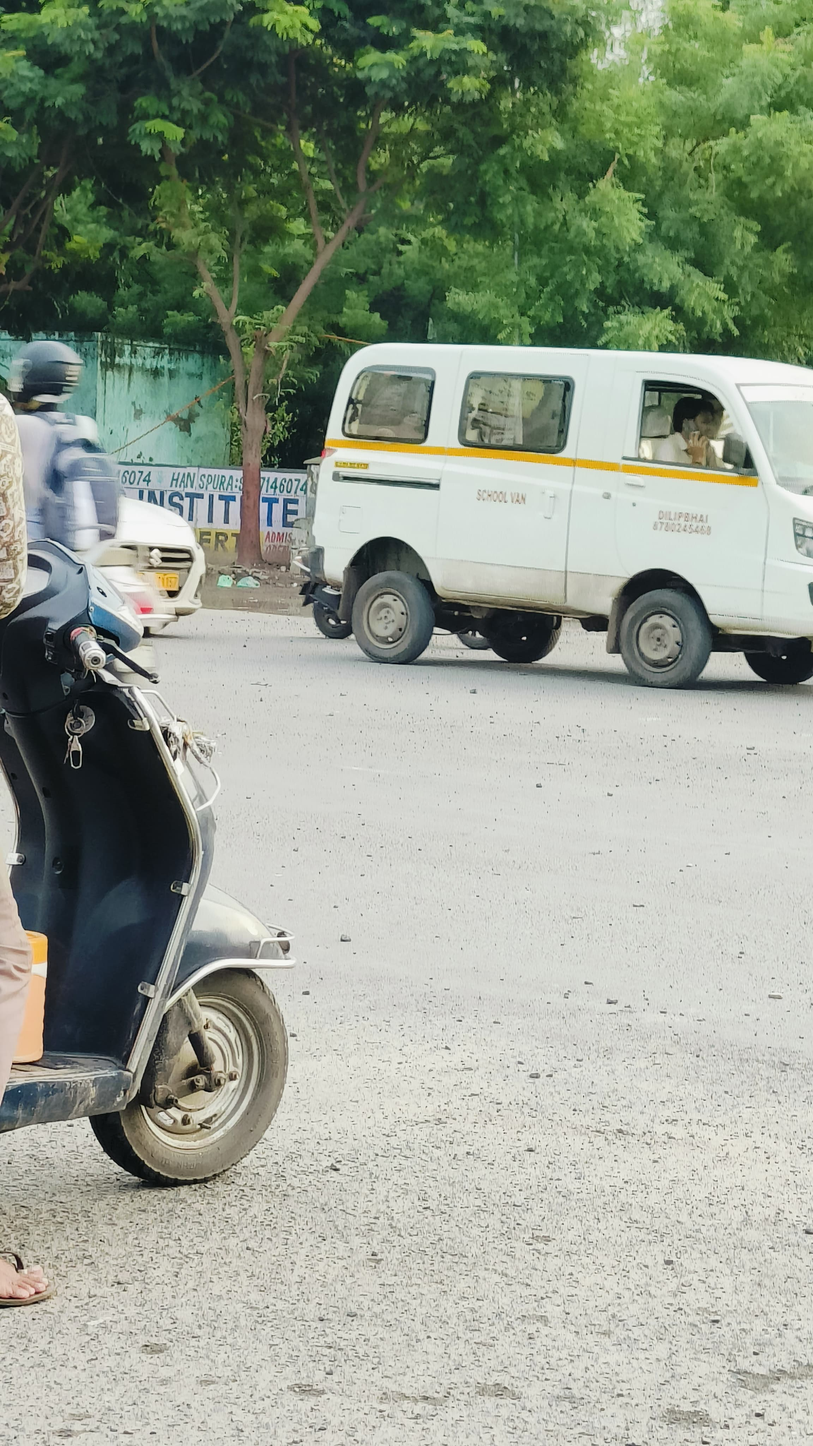BikeWithRider: (0, 304, 182, 718)
Helmet: (0, 333, 89, 417)
